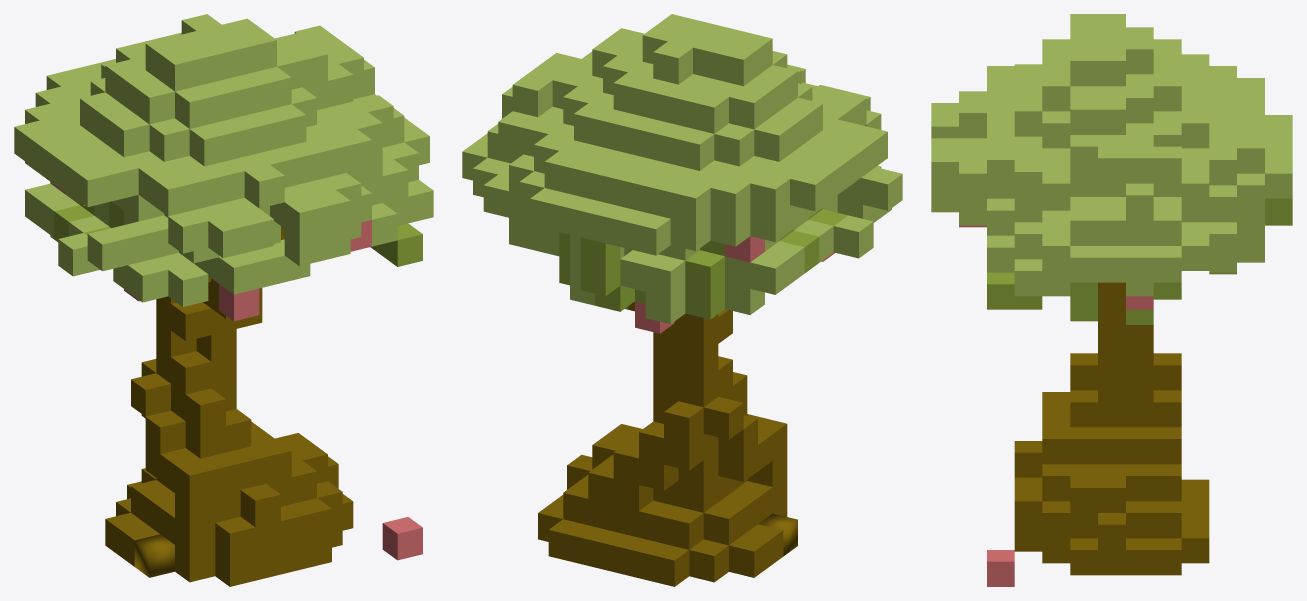
The model's file is Tree1.fbx.
3 renders of one model, left to right at view 1: azimuth 30°, elevation 25°; view 2: azimuth 150°, elevation 25°; view 3: azimuth 270°, elevation 25°, orthographic. The views are drawn at different scales.
Visible parts, largest first — view 1: Tree1:cube_62, Tree1:cube_298, Tree1:cube_1, Tree1:cube_27, Tree1:cube_183, Tree1:cube_231, Tree1:cube_38, Tree1:cube_184, Tree1:cube_189, Tree1:cube_218, Tree1:cube_225, Tree1:cube_241 (+96 smaller); view 2: Tree1:cube_12, Tree1:cube_182, Tree1:cube_297, Tree1:cube_500, Tree1:cube_26, Tree1:cube_230, Tree1:cube_255, Tree1:cube_258, Tree1:cube_271, Tree1:cube_18, Tree1:cube_204, Tree1:cube_155 (+105 smaller); view 3: Tree1:cube_40, Tree1:cube_69, Tree1:cube_98, Tree1:cube_102, Tree1:cube_127, Tree1:cube_131, Tree1:cube_138, Tree1:cube_141, Tree1:cube_147, Tree1:cube_400, Tree1:cube_402, Tree1:cube_421 (+81 smaller).
Part boxes in pixels (x1=…): Tree1:cube_62: x1=240, y1=484, x2=280, y2=527; Tree1:cube_298: x1=175, y1=85, x2=215, y2=128; Tree1:cube_1: x1=134, y1=534, x2=174, y2=577; Tree1:cube_27: x1=215, y1=516, x2=255, y2=560; Tree1:cube_183: x1=87, y1=228, x2=127, y2=271; Tree1:cube_231: x1=109, y1=113, x2=149, y2=157; Tree1:cube_38: x1=185, y1=388, x2=225, y2=431; Tree1:cube_184: x1=73, y1=163, x2=113, y2=206; Tree1:cube_189: x1=128, y1=259, x2=168, y2=302; Tree1:cube_218: x1=168, y1=210, x2=208, y2=253; Tree1:cube_225: x1=153, y1=173, x2=193, y2=216; Tree1:cube_241: x1=208, y1=214, x2=248, y2=258; Tree1:cube_12: x1=703, y1=502, x2=743, y2=545; Tree1:cube_182: x1=833, y1=215, x2=873, y2=258; Tree1:cube_297: x1=674, y1=128, x2=714, y2=170; Tree1:cube_500: x1=512, y1=74, x2=552, y2=117; Tree1:cube_26: x1=649, y1=544, x2=689, y2=586; Tree1:cube_230: x1=710, y1=177, x2=750, y2=220; Tree1:cube_255: x1=670, y1=181, x2=710, y2=224; Tree1:cube_258: x1=714, y1=123, x2=754, y2=166; Tree1:cube_271: x1=645, y1=254, x2=685, y2=297; Tree1:cube_18: x1=703, y1=397, x2=743, y2=439; Tree1:cube_204: x1=750, y1=172, x2=789, y2=215; Tree1:cube_155: x1=685, y1=250, x2=724, y2=293; Tree1:cube_40: x1=1153, y1=353, x2=1181, y2=390; Tree1:cube_69: x1=1153, y1=390, x2=1181, y2=427; Tree1:cube_98: x1=1042, y1=427, x2=1070, y2=464; Tree1:cube_102: x1=1153, y1=427, x2=1181, y2=464; Tree1:cube_127: x1=1042, y1=464, x2=1070, y2=501; Tree1:cube_131: x1=1153, y1=464, x2=1181, y2=501; Tree1:cube_138: x1=1042, y1=501, x2=1070, y2=538; Tree1:cube_141: x1=1153, y1=501, x2=1181, y2=538; Tree1:cube_147: x1=1153, y1=538, x2=1181, y2=575; Tree1:cube_400: x1=1042, y1=74, x2=1070, y2=111; Tree1:cube_402: x1=1153, y1=74, x2=1181, y2=111; Tree1:cube_421: x1=1042, y1=111, x2=1070, y2=148.
Bounding box in the file's own units: 14 × 19 × 13.
